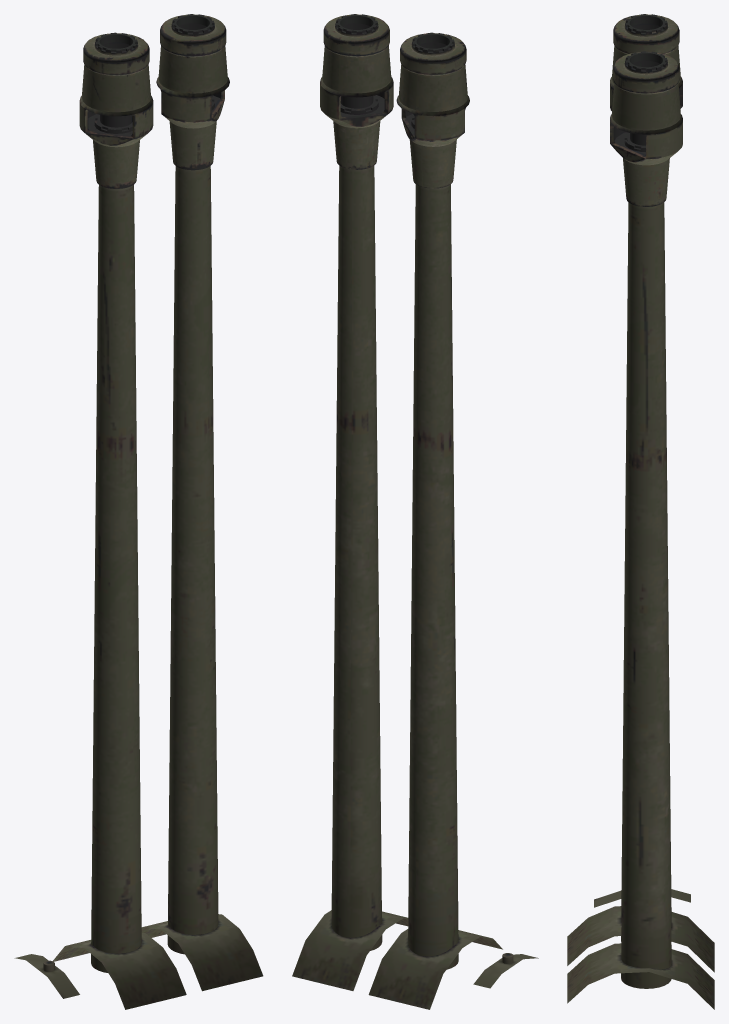
The model's file is Gun_02.glb.
3 views of the same model, side by side, from view 1: azimuth 30°, elevation 25°; view 2: azimuth 150°, elevation 25°; view 3: azimuth 270°, elevation 25° (orthographic).
Parts seen in each view (by area): view 1: set_0_group_0; view 2: set_0_group_0; view 3: set_0_group_0.
Part boxes in pixels (box(x1,y1,x2,y2)): set_0_group_0: box(14, 14, 263, 1009); set_0_group_0: box(292, 14, 538, 1009); set_0_group_0: box(567, 14, 714, 1009).
Size of the model in its own units: 0.9752 by 4.65 by 0.6629.
Materials: 1 (1 with a texture image).
